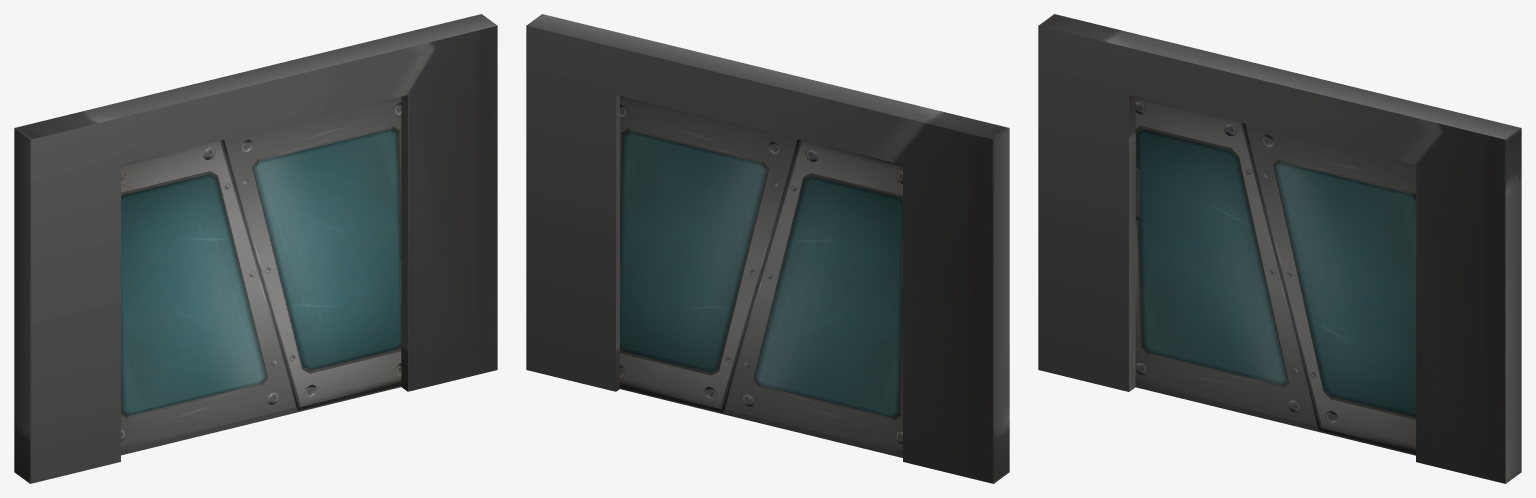
File: door.glb
3 views of the same model, side by side, from view 1: azimuth 30°, elevation 25°; view 2: azimuth 150°, elevation 25°; view 3: azimuth 330°, elevation 25° (orthographic).
Visible parts, largest first — view 1: Box004, Box007, Box006; view 2: Box004, Box006, Box007; view 3: Box004, Box006, Box007.
Part boxes in pixels (x1,y1,x2,y2): Box004: (14, 14, 497, 483); Box007: (224, 96, 401, 411); Box006: (121, 140, 297, 455); Box004: (526, 14, 1009, 483); Box006: (723, 139, 902, 457); Box007: (620, 96, 797, 413); Box004: (1038, 14, 1521, 483); Box006: (1135, 97, 1318, 431); Box007: (1245, 123, 1415, 455).
Size of the model in its own units: 4.5 by 3.17 by 0.2681.
2 materials, 2 textured.
